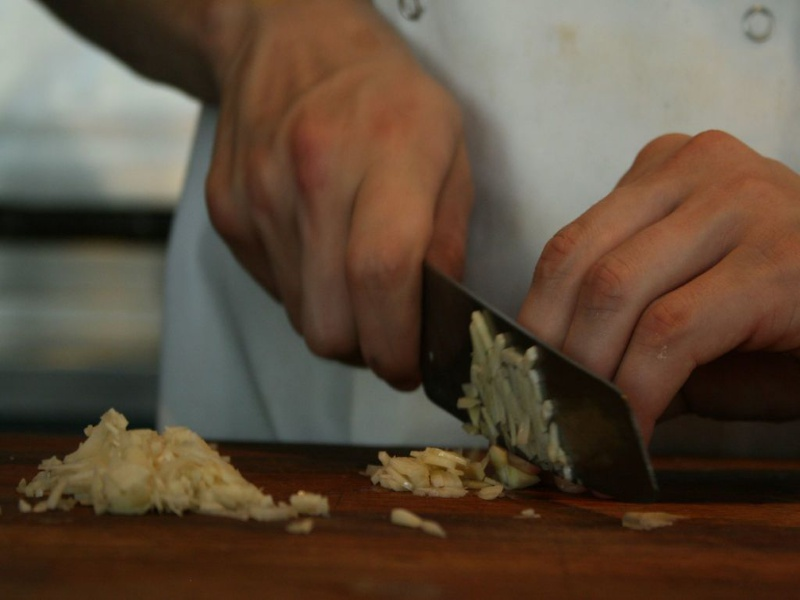knife: (397, 248, 670, 517)
